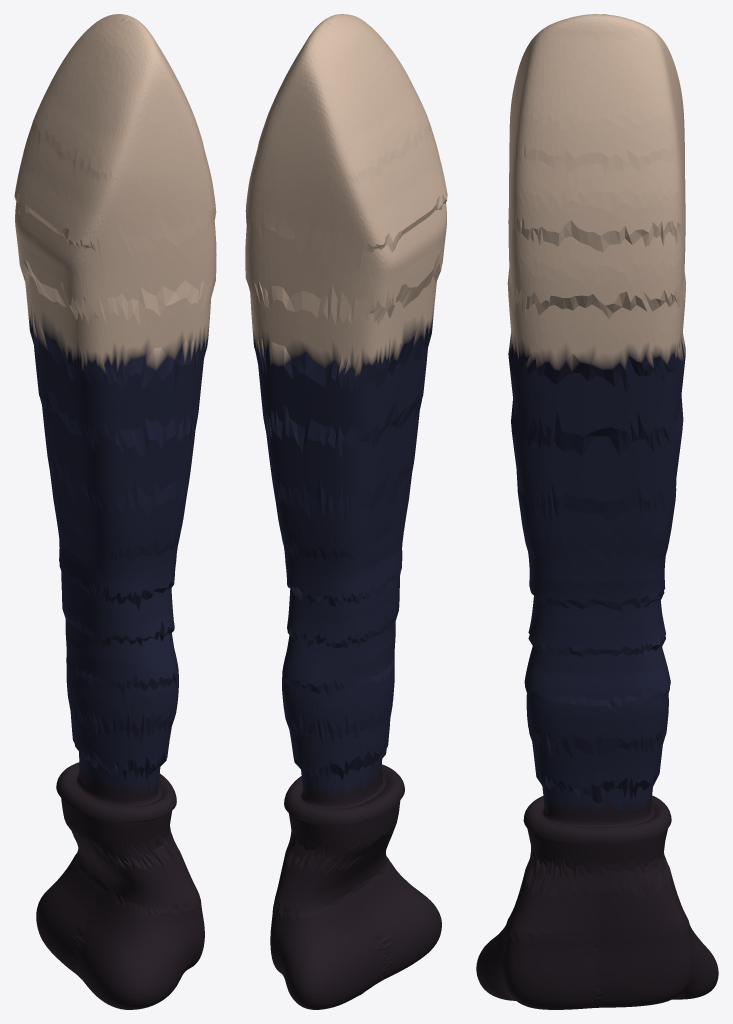
File: leg_R.glb
3 views of the same model, side by side, from view 1: azimuth 30°, elevation 25°; view 2: azimuth 150°, elevation 25°; view 3: azimuth 270°, elevation 25° (orthographic). The views are drawn at different scales.
Visible parts, largest first — view 1: geometry_0; view 2: geometry_0; view 3: geometry_0.
Boxes of the visible parts, x1=… form: geometry_0: x1=14, y1=14, x2=216, y2=1009; geometry_0: x1=245, y1=14, x2=447, y2=1009; geometry_0: x1=476, y1=14, x2=718, y2=1009.
Bounding box in the file's own units: 0.2308 × 1.38 × 0.3023.
